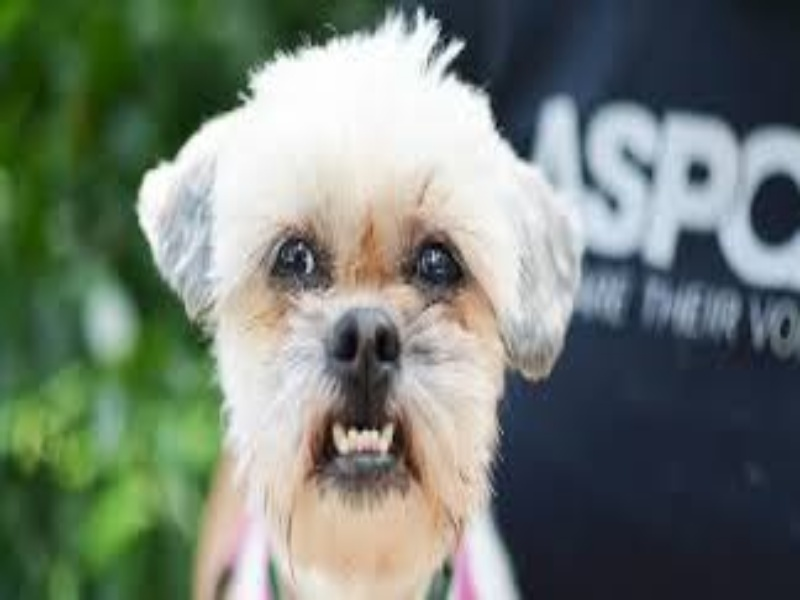dog: (98, 21, 631, 550)
